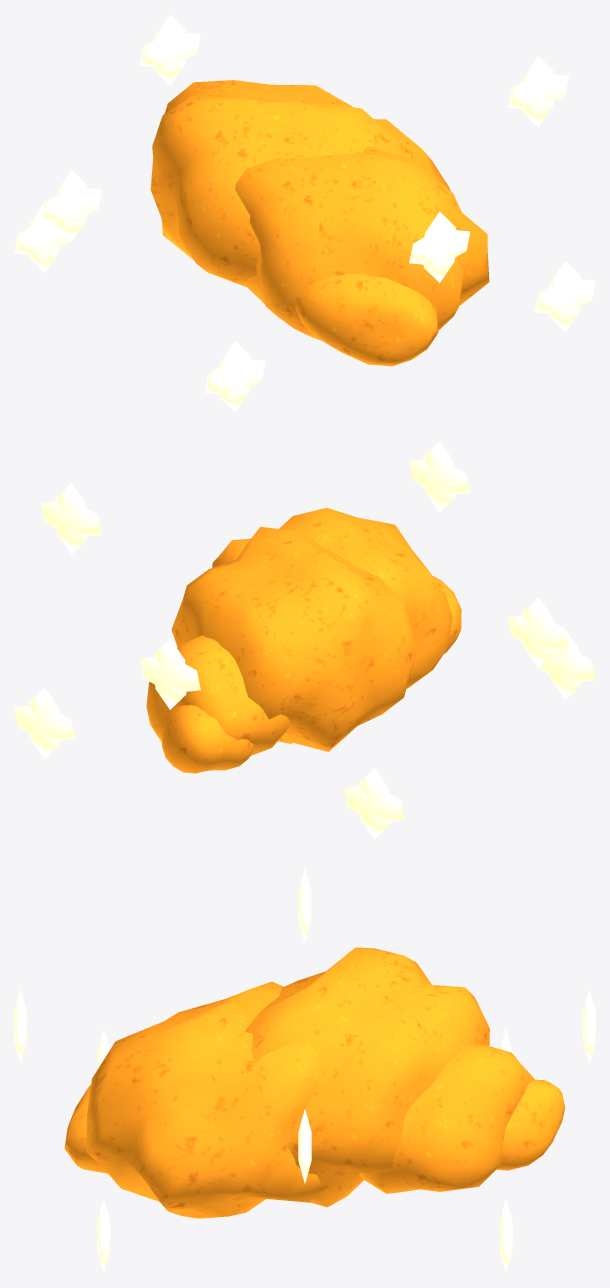
The model's file is golden_tendy.glb.
3 views of the same model, one above another, from view 1: azimuth 30°, elevation 25°; view 2: azimuth 150°, elevation 25°; view 3: azimuth 270°, elevation 25° (orthographic). The views are drawn at different scales.
Visible parts, largest first — view 1: Icosphere.001, Icosphere.002, Icosphere, Icosphere.014, Icosphere.010, Icosphere.018, Icosphere.020, Icosphere.016, Icosphere.006, Icosphere.009, Icosphere.013, Icosphere.019 (+5 smaller); view 2: Icosphere.002, Icosphere.001, Icosphere.003, Icosphere.004, Icosphere.014, Icosphere.008, Icosphere.010, Icosphere.018, Icosphere.012, Icosphere.006, Icosphere.013, Icosphere.017 (+7 smaller); view 3: Icosphere.001, Icosphere.002, Icosphere.003, Icosphere.004, Icosphere.
Part boxes in pixels (bbox=[...]): Icosphere.001: bbox=[235, 119, 489, 340]; Icosphere.002: bbox=[150, 80, 399, 287]; Icosphere: bbox=[295, 274, 438, 366]; Icosphere.014: bbox=[41, 188, 102, 222]; Icosphere.010: bbox=[139, 32, 200, 67]; Icosphere.018: bbox=[409, 230, 470, 264]; Icosphere.020: bbox=[534, 279, 595, 313]; Icosphere.016: bbox=[204, 359, 265, 394]; Icosphere.006: bbox=[507, 74, 568, 108]; Icosphere.009: bbox=[154, 14, 186, 85]; Icosphere.013: bbox=[55, 170, 87, 241]; Icosphere.019: bbox=[549, 260, 581, 331]; Icosphere.002: bbox=[171, 526, 416, 751]; Icosphere.001: bbox=[212, 508, 452, 688]; Icosphere.003: bbox=[146, 635, 290, 756]; Icosphere.004: bbox=[162, 705, 253, 773]; Icosphere.014: bbox=[507, 615, 568, 649]; Icosphere.008: bbox=[14, 706, 75, 740]; Icosphere.010: bbox=[139, 657, 200, 691]; Icosphere.018: bbox=[409, 459, 470, 494]; Icosphere.012: bbox=[344, 786, 405, 821]; Icosphere.006: bbox=[41, 501, 102, 535]; Icosphere.013: bbox=[522, 597, 554, 668]; Icosphere.017: bbox=[423, 441, 455, 512]; Icosphere.001: bbox=[86, 981, 329, 1218]; Icosphere.002: bbox=[245, 947, 489, 1207]; Icosphere.003: bbox=[359, 1044, 534, 1193]; Icosphere.004: bbox=[496, 1079, 565, 1170]; Icosphere: bbox=[64, 1084, 107, 1173].
Bounding box in the file's own units: 1.4 × 0.5261 × 1.27.
2 materials, 1 textured.
